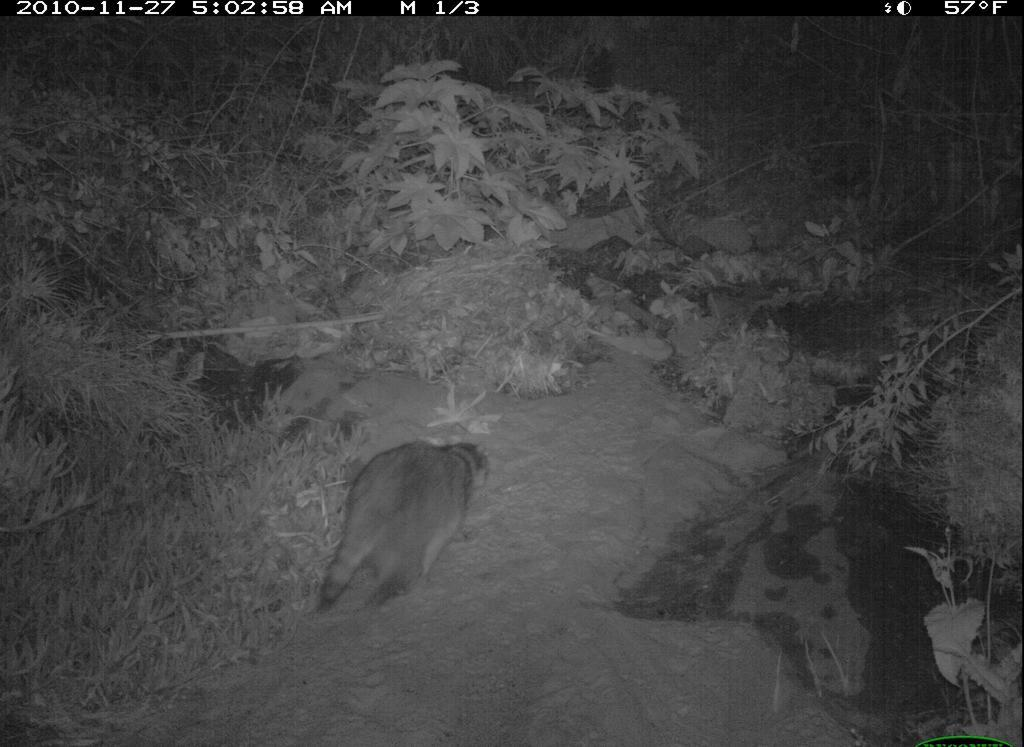raccoon: (291, 420, 502, 616)
